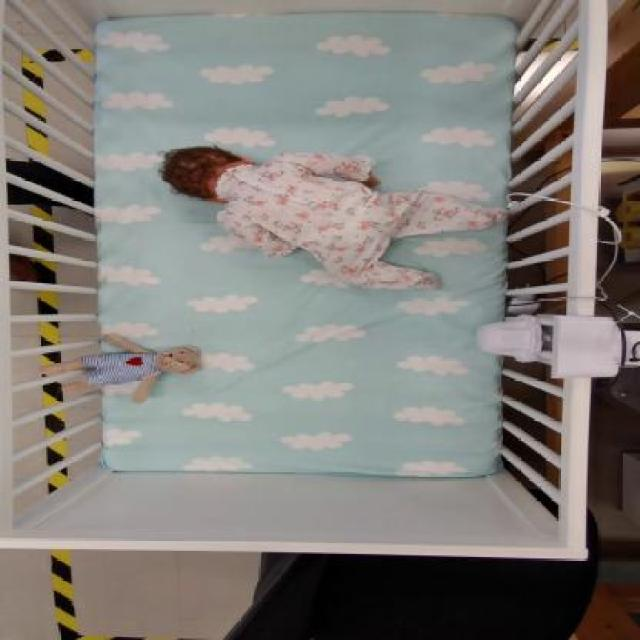baby: (158, 141, 512, 292)
